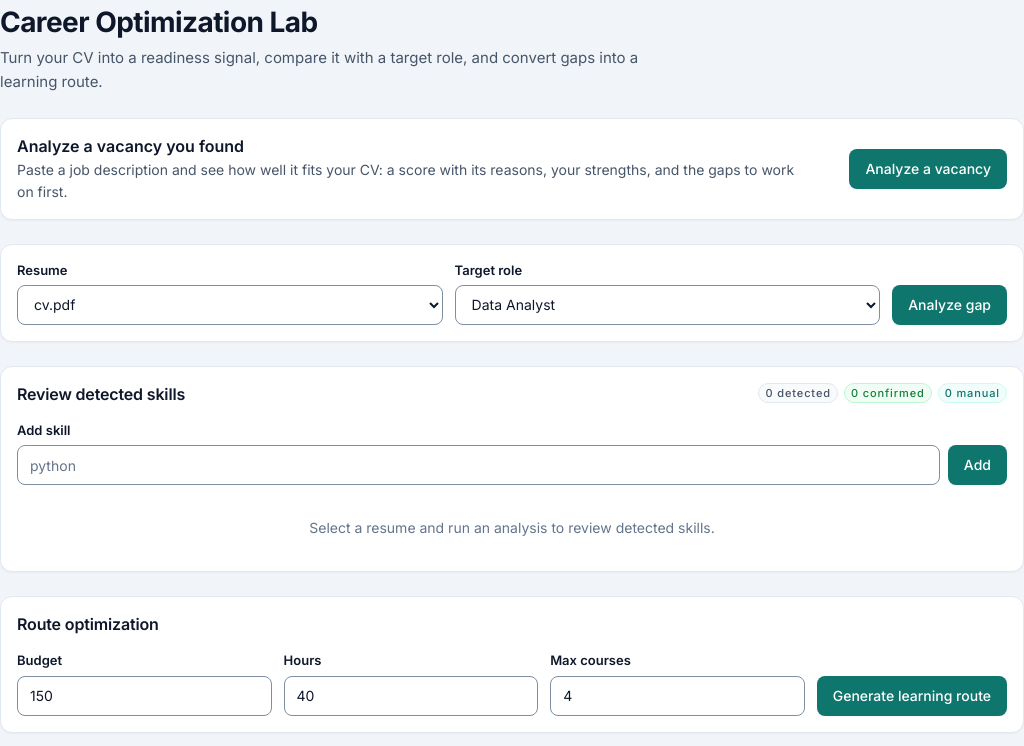
Test case: CareerLabPage › generates a learning route with a fresh Idempotency-Key on optimize and evaluate-baselines
The width and height of the screenshot is (1024, 746).
Click the button "Generate learning route": (912, 696) [817,676,1007,716]
(page scrolled)
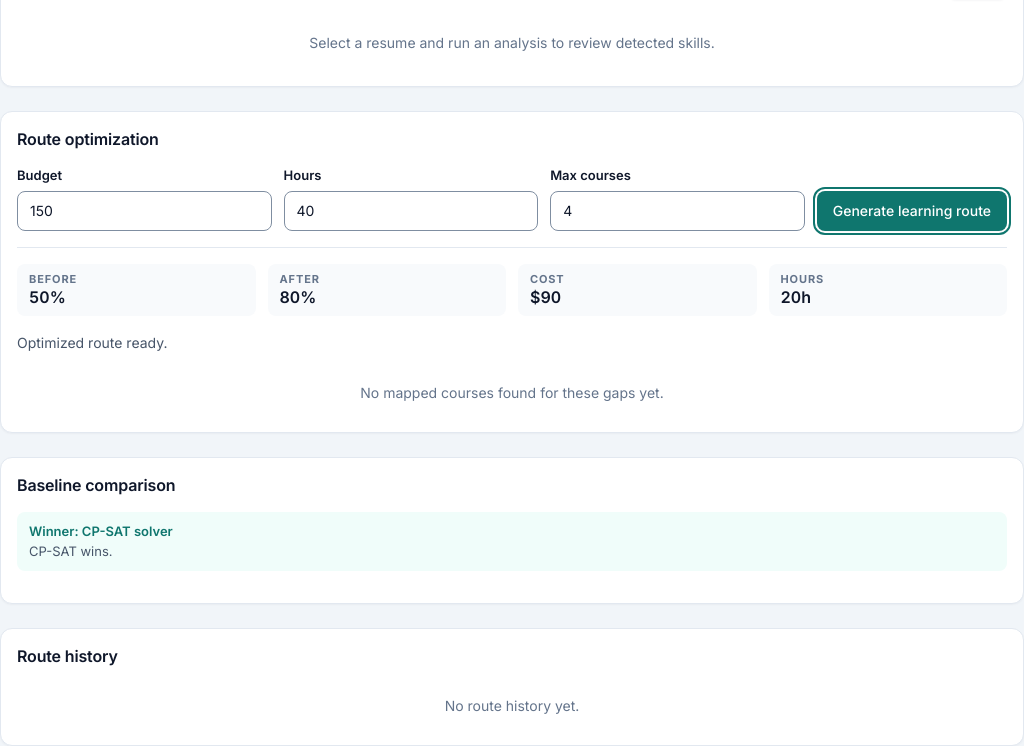
Check: the text "Optimized route ready." is shown, box [17,334,168,351]
Check: the text "CP-SAT wins." is shown, box [29,543,112,559]
